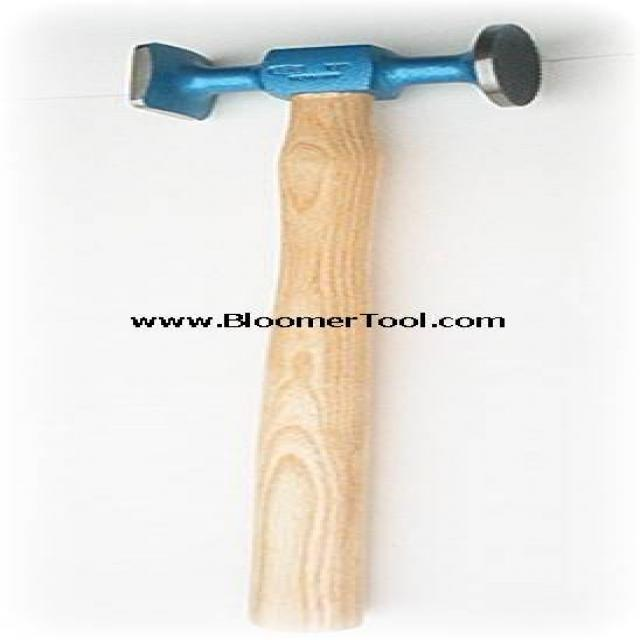hammer: (114, 17, 556, 626)
